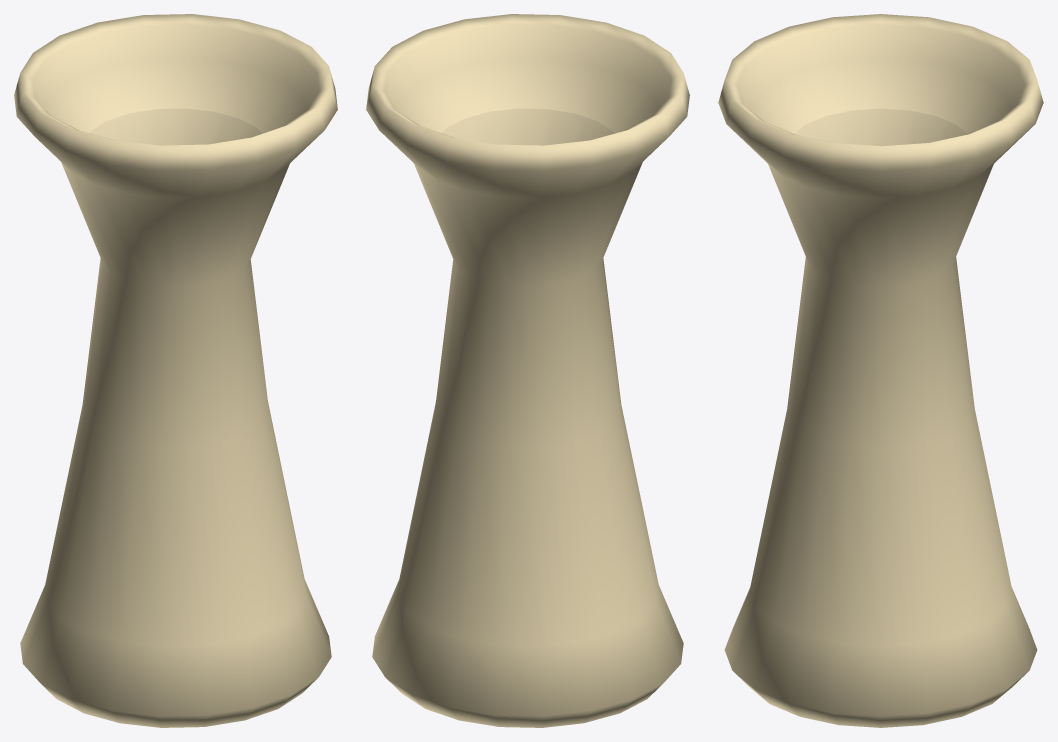
The model's file is fluted-vase.glb.
3 views of the same model, side by side, from view 1: azimuth 30°, elevation 25°; view 2: azimuth 150°, elevation 25°; view 3: azimuth 270°, elevation 25° (orthographic).
Parts seen in each view (by area): view 1: vase-0; view 2: vase-0; view 3: vase-0.
Part boxes in pixels (box(x1,y1,x2,y2)): vase-0: box(14, 14, 337, 727); vase-0: box(366, 14, 689, 727); vase-0: box(718, 14, 1043, 727).
Size of the model in its own units: 0.52 by 1.04 by 0.52.
